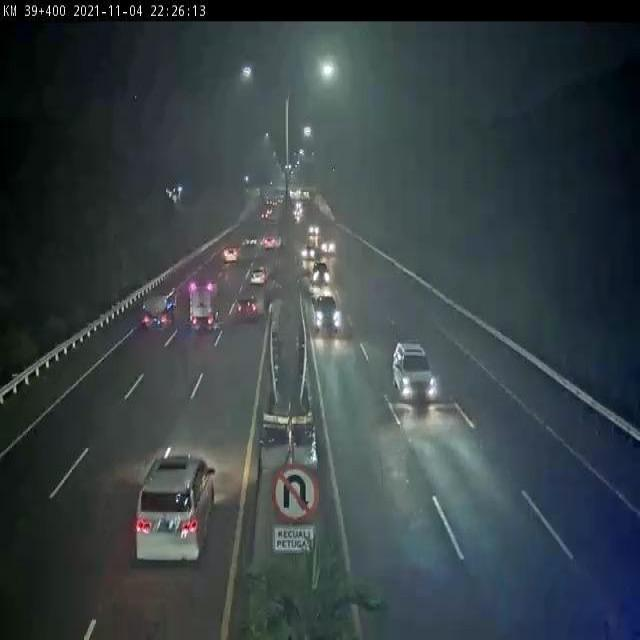car: (138, 448, 211, 571), (376, 340, 455, 419), (313, 299, 355, 340), (239, 277, 270, 324), (310, 260, 336, 289), (225, 240, 237, 269)
truck-s-: (179, 273, 216, 343), (146, 276, 181, 343)
